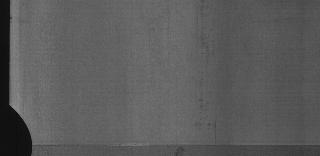welding line: (29, 142, 319, 154)
